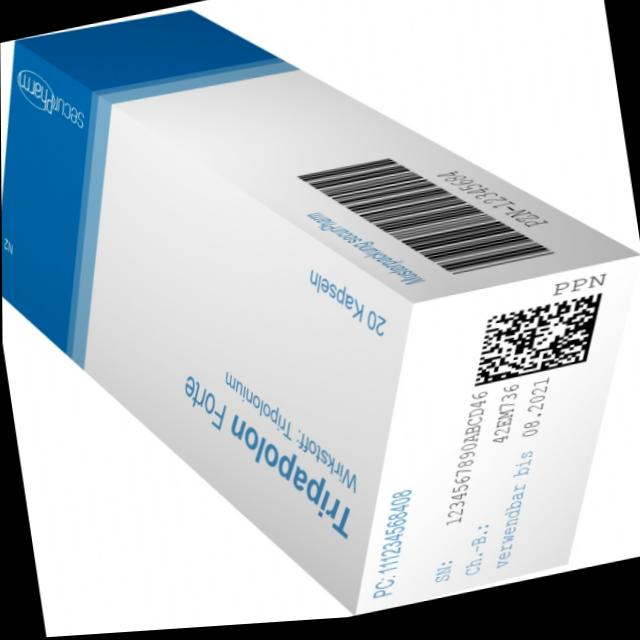datamatrix: (457, 296, 620, 399)
